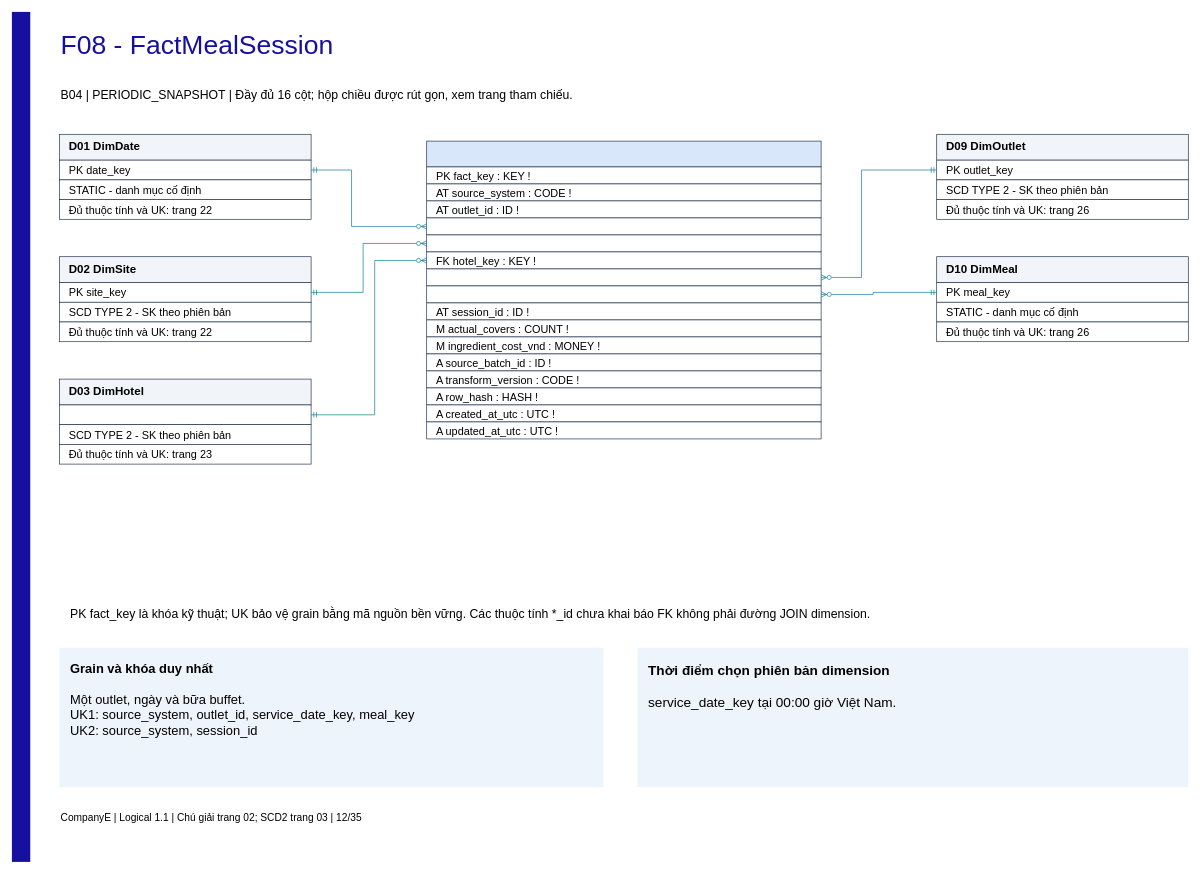
Some shapes in this 1200 by 873 pixel diagram are drawn without their labels. The shapes that lost their labels are listed below. From the top down, each one's centre as x and y in pixels, then its label:
[623,153]: F08 FactMealSession
[623,226]: FK service_date_key : DATEKEY !
[623,243]: FK site_key : KEY !
[623,277]: FK outlet_key : KEY !
[623,294]: FK meal_key : KEY !
[185,414]: PK hotel_key
